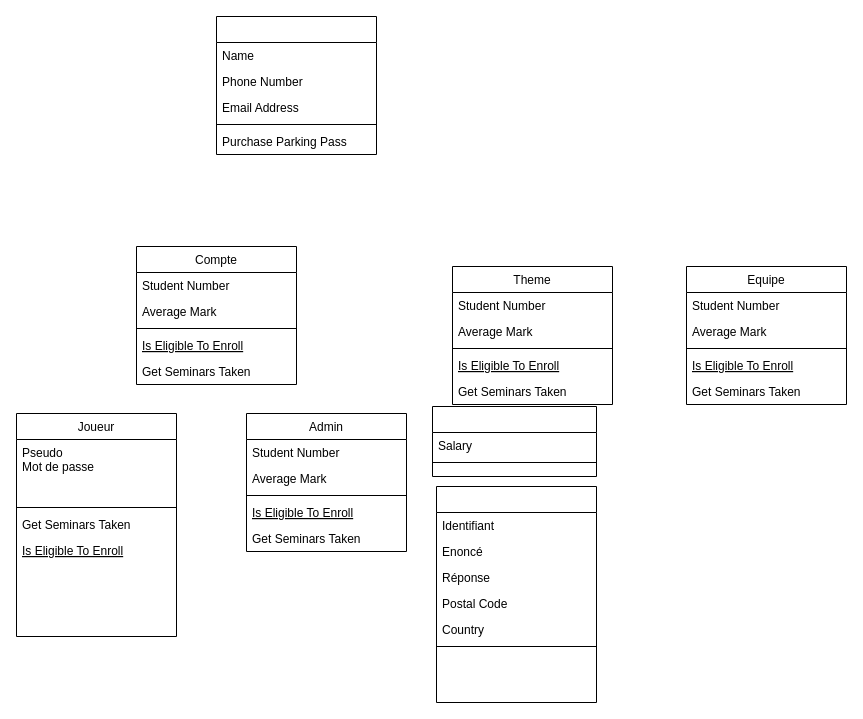
This 863x719 diagram has some shape labels left out. The box of each missing label's shape, as (x1, y1, x2, y2) in pixels:
Difficulté: (432, 406, 596, 476)
Questions: (436, 486, 596, 702)
Quiz: (216, 16, 376, 154)
